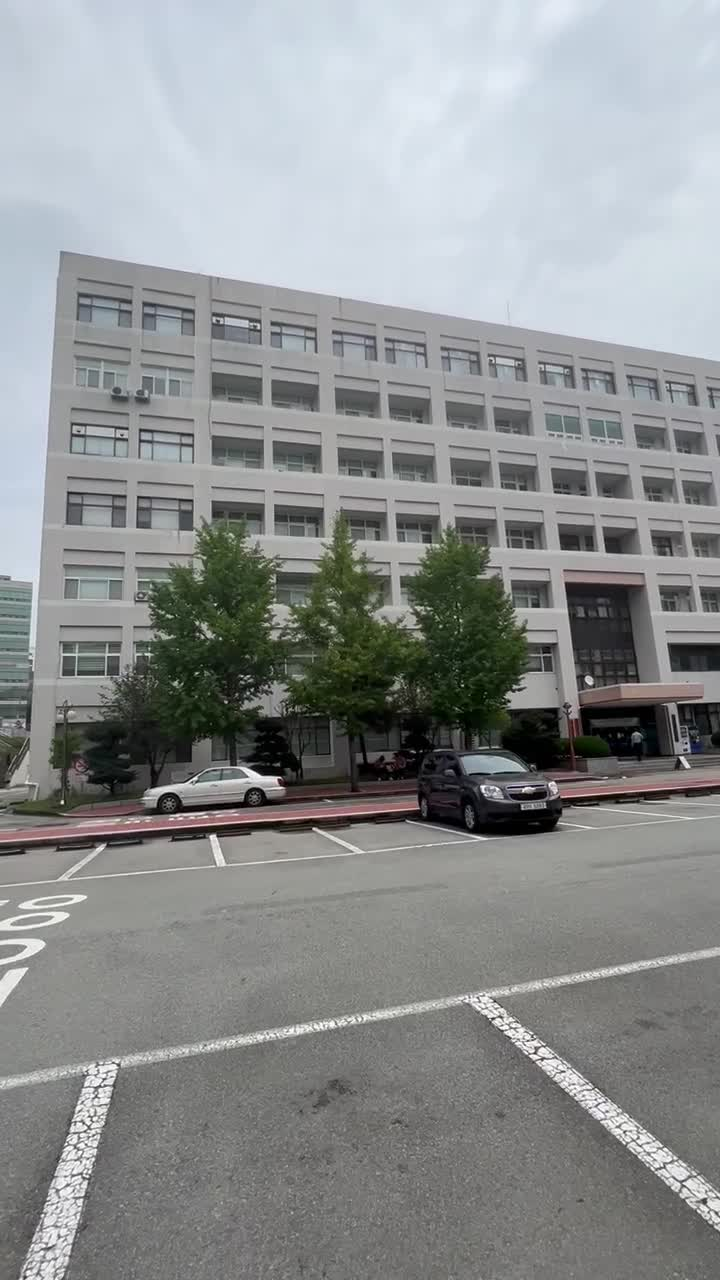low: (46, 260, 692, 540)
